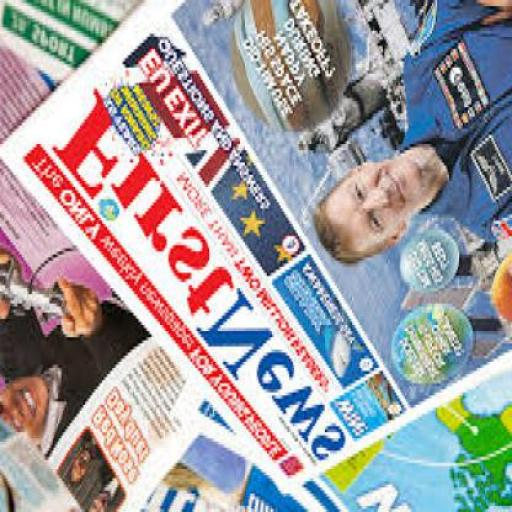paper: (1, 3, 510, 500), (0, 43, 202, 511), (232, 368, 510, 511), (0, 3, 138, 86), (169, 368, 245, 463)
